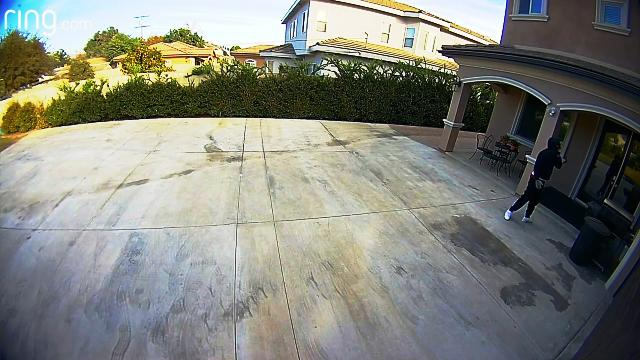berjalan: (502, 136, 566, 224)
